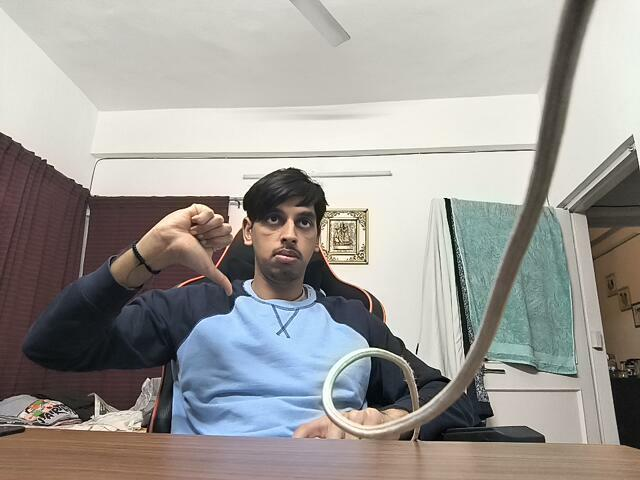LEFT: (147, 205, 241, 305)
